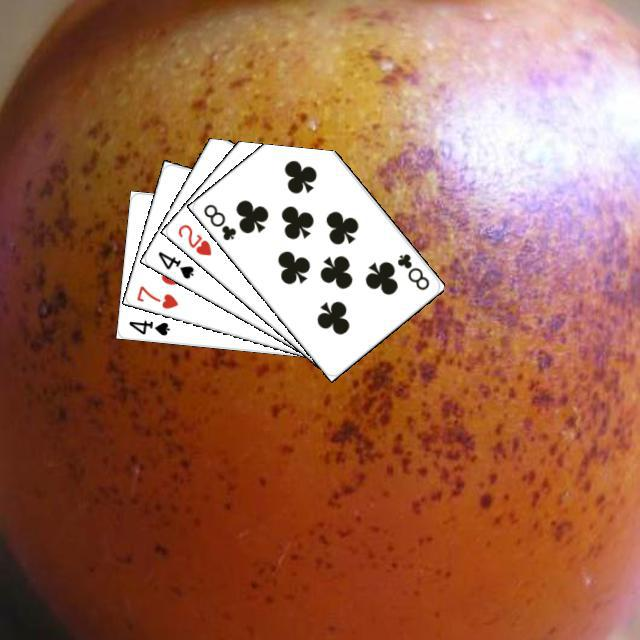2h: (173, 219, 213, 257)
4s: (153, 246, 196, 281), (124, 315, 171, 337)
7h: (131, 281, 180, 311)
8c: (198, 199, 238, 242), (392, 248, 431, 292)
